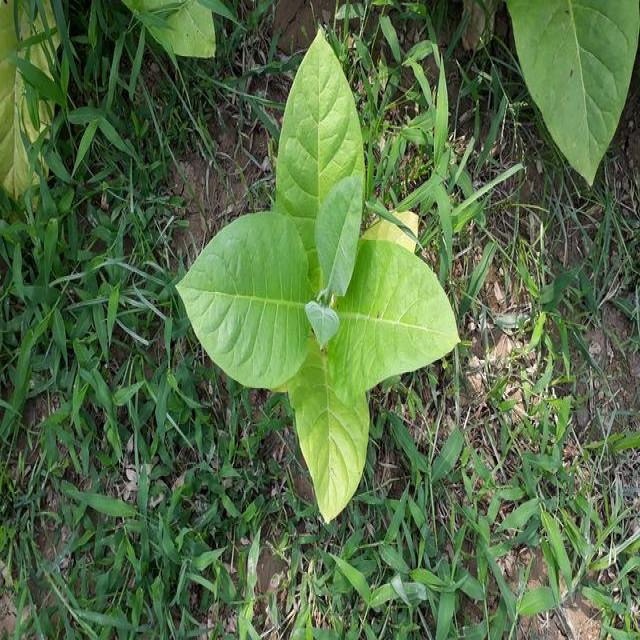crop: (163, 24, 471, 536)
